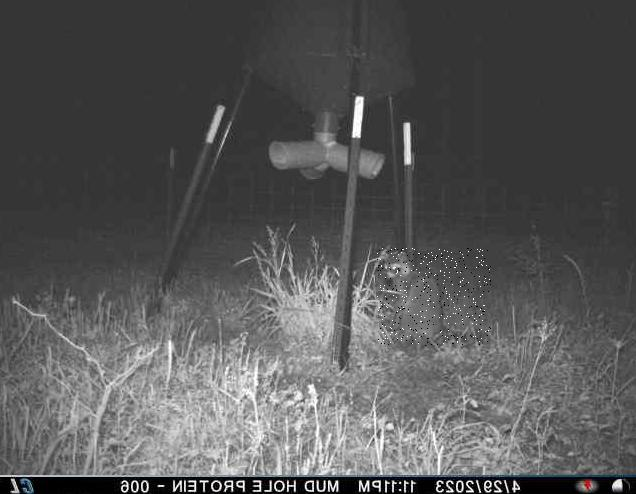Raccoon: (376, 248, 490, 346)
